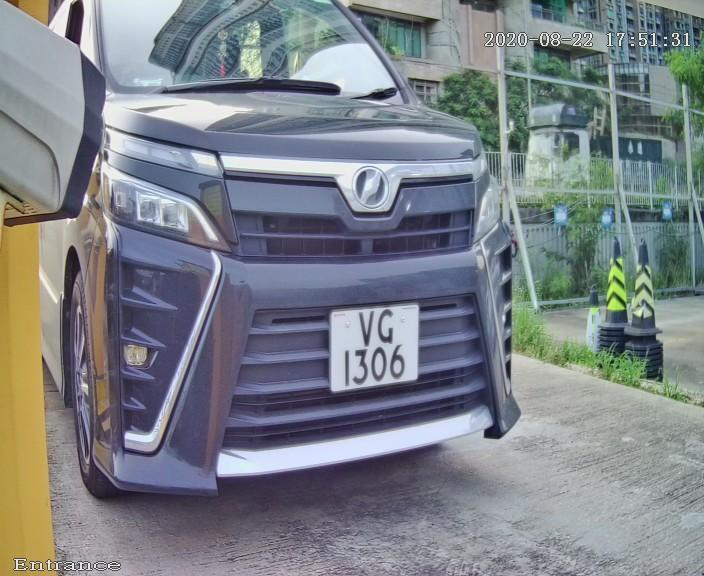Car: (41, 11, 573, 535)
License Plate: (321, 289, 431, 407)
